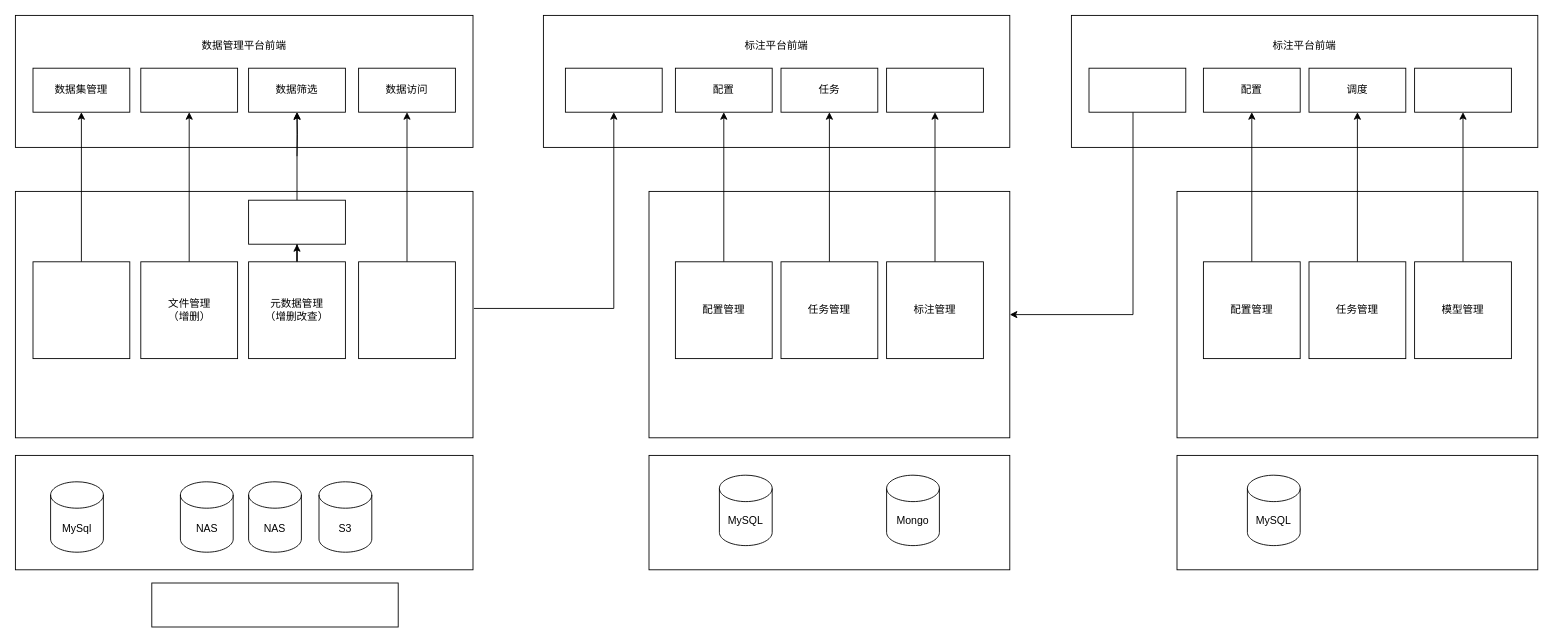
Image size: 1553x642. Some labels were removed from this diagram. Here are the shapes that lost their labels. From the top down, the centre of each, then its label:
At point 189,89: "文件增删".
At point 613,89: "标签".
At point 934,89: "标注".
At point 1137,89: "标注配置".
At point 1462,89: "模型".
At point 296,221: "ElasticSearch".
At point 81,310: "数据集管理 （增删改查）".
At point 406,310: "文件代理 （转码）".
At point 274,604: "AWS用户定义元数据最大 2 KB".
